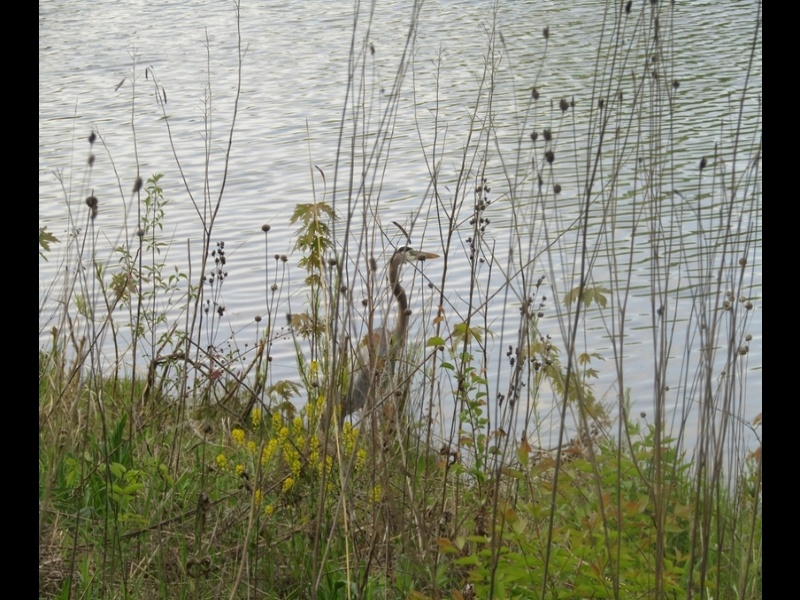heron: (322, 248, 439, 426)
